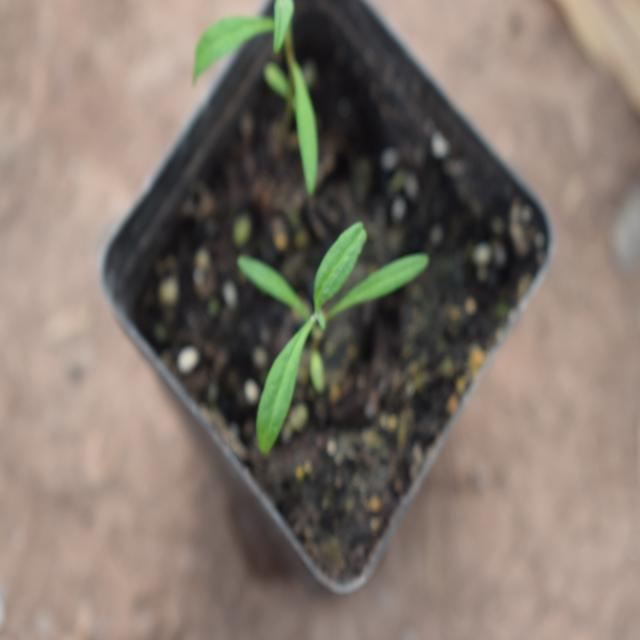white_smart_weed: (212, 238, 422, 450)
